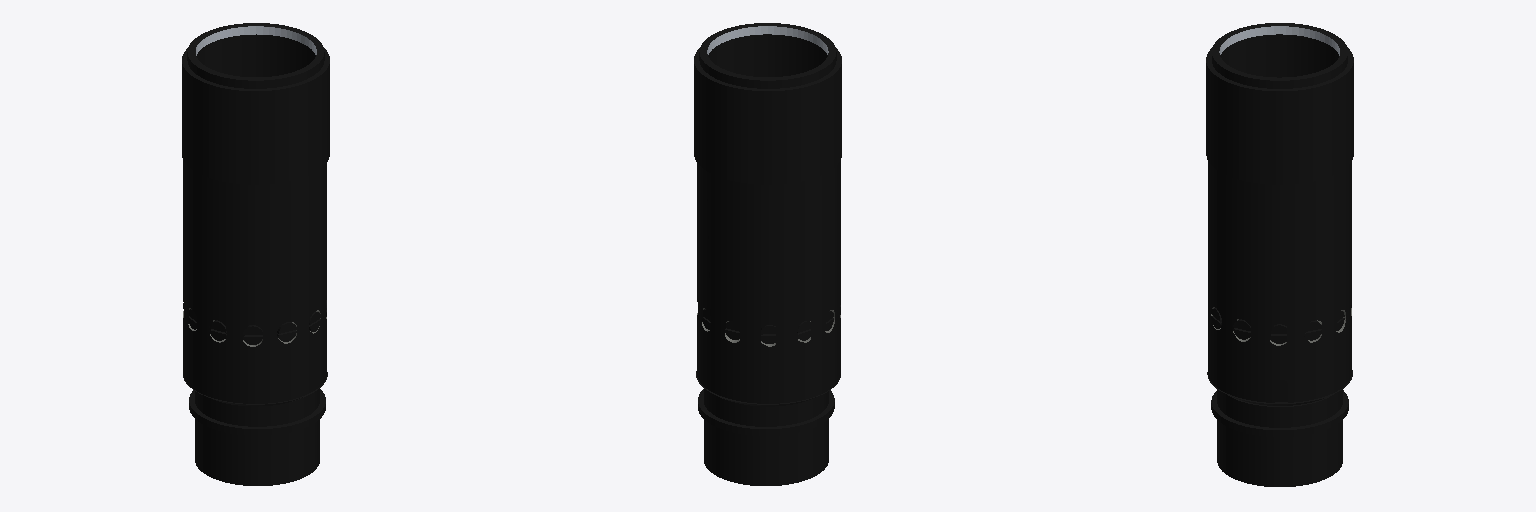
3 views of the same model, side by side, from view 1: azimuth 30°, elevation 25°; view 2: azimuth 150°, elevation 25°; view 3: azimuth 270°, elevation 25° (orthographic).
Visible parts, largest first — view 1: Mesh1 Difference Component_2_1 Model, Mesh17 Component_27_1 Component_2_1 Model, Mesh3 Component_29_1 Component_2_1 Model, Mesh16 Component_30_1 Component_2_1 Model; view 2: Mesh1 Difference Component_2_1 Model, Mesh17 Component_27_1 Component_2_1 Model, Mesh3 Component_29_1 Component_2_1 Model, Mesh16 Component_30_1 Component_2_1 Model; view 3: Mesh1 Difference Component_2_1 Model, Mesh17 Component_27_1 Component_2_1 Model, Mesh3 Component_29_1 Component_2_1 Model, Mesh16 Component_30_1 Component_2_1 Model.
Boxes of the visible parts, x1=… form: Mesh1 Difference Component_2_1 Model: x1=183, y1=160, x2=326, y2=403; Mesh17 Component_27_1 Component_2_1 Model: x1=182, y1=23, x2=329, y2=184; Mesh3 Component_29_1 Component_2_1 Model: x1=195, y1=388, x2=319, y2=485; Mesh16 Component_30_1 Component_2_1 Model: x1=189, y1=389, x2=325, y2=435; Mesh1 Difference Component_2_1 Model: x1=697, y1=160, x2=840, y2=403; Mesh17 Component_27_1 Component_2_1 Model: x1=694, y1=23, x2=841, y2=184; Mesh3 Component_29_1 Component_2_1 Model: x1=704, y1=389, x2=828, y2=485; Mesh16 Component_30_1 Component_2_1 Model: x1=698, y1=389, x2=834, y2=435; Mesh1 Difference Component_2_1 Model: x1=1208, y1=161, x2=1351, y2=402; Mesh17 Component_27_1 Component_2_1 Model: x1=1206, y1=23, x2=1353, y2=184; Mesh3 Component_29_1 Component_2_1 Model: x1=1217, y1=389, x2=1342, y2=486; Mesh16 Component_30_1 Component_2_1 Model: x1=1211, y1=390, x2=1348, y2=436.
Size of the model in its own units: 309 by 939 by 308.